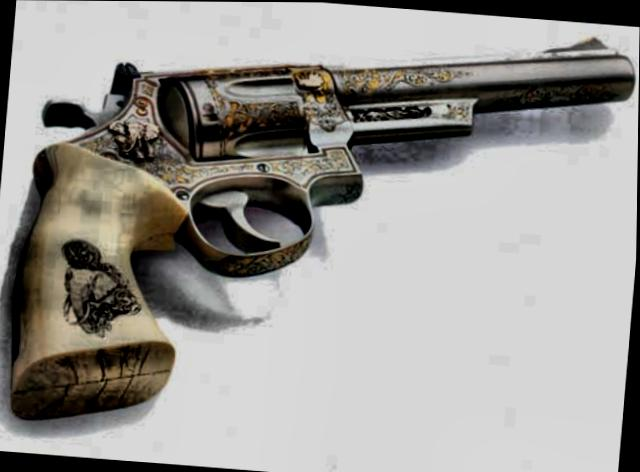pistol: (0, 0, 638, 460)
